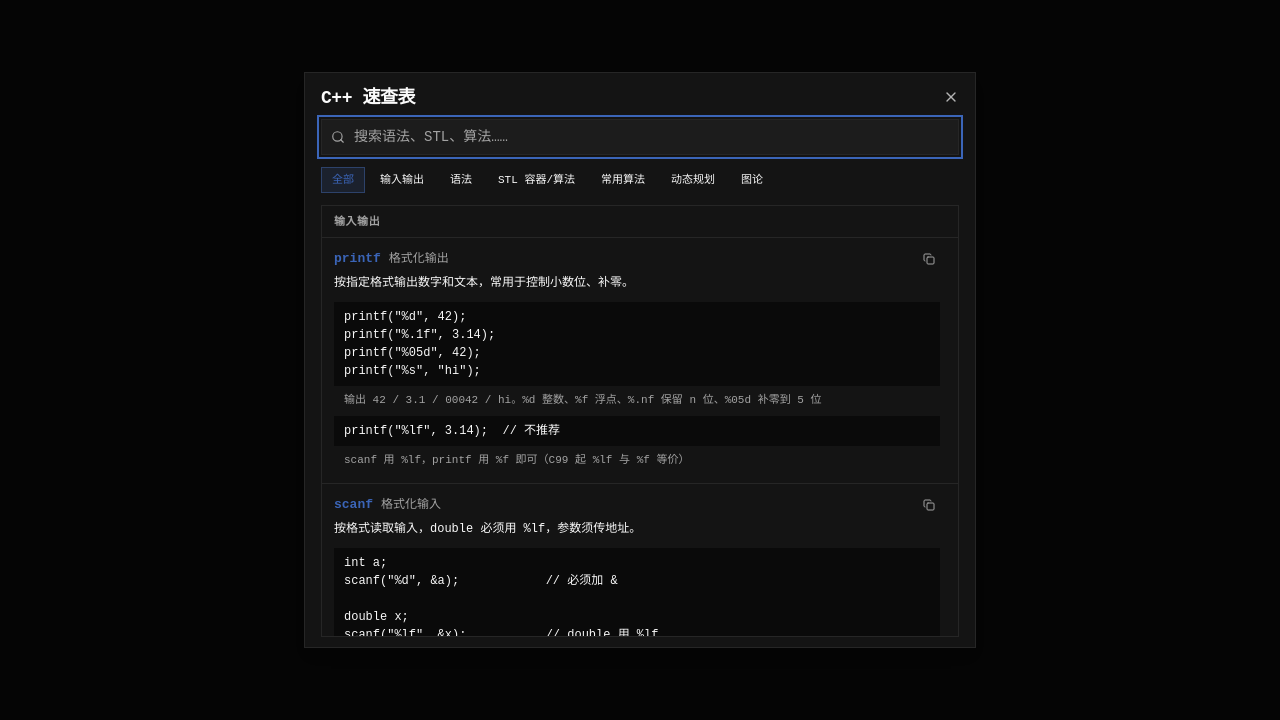
Test: CheatsheetDialog › 点击 chip 过滤分类（动态规划）
Expected: the element with class "cheatsheet-categories" is shown, [321,167,774,193]
What coordinates should you click on to do the following:
click the button "动态规划"
I would click on:
 (693, 180)
Its box is [660,167,726,193].
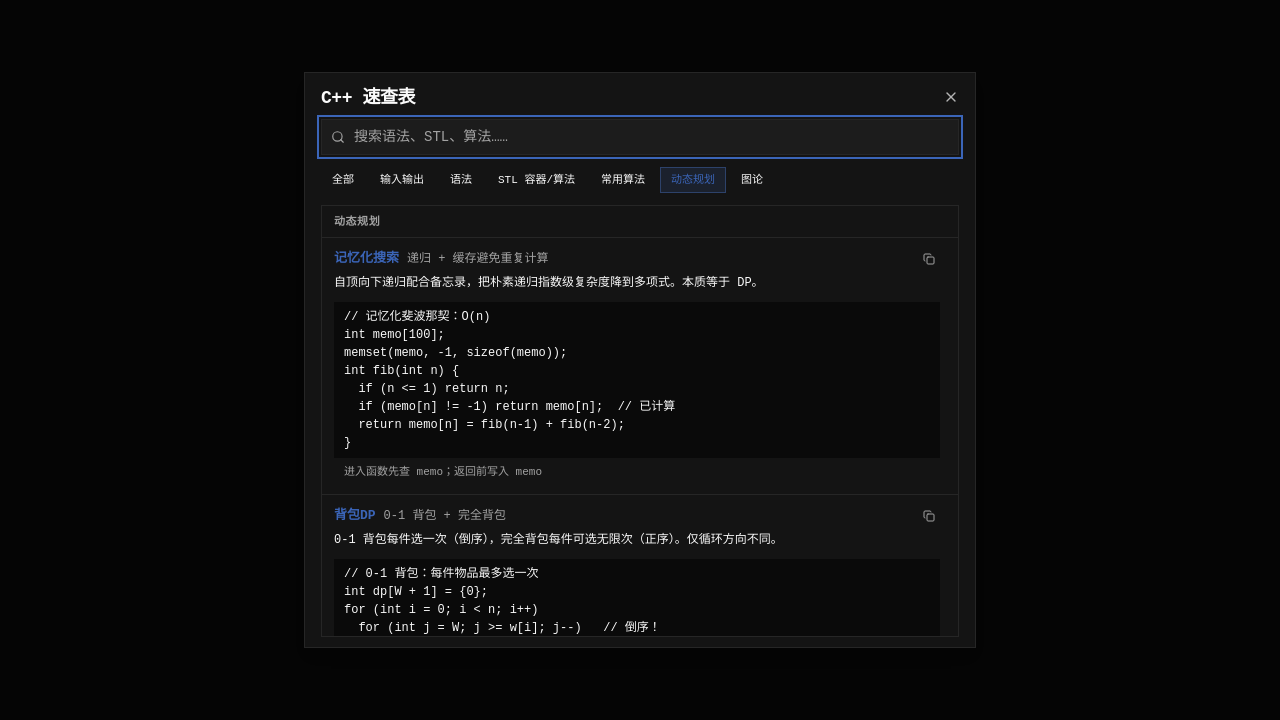
Expected: the text "printf" is gone
